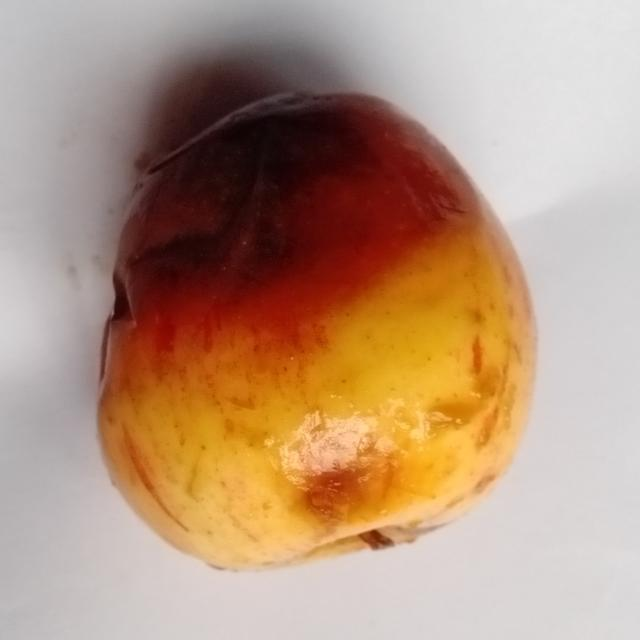apple: (100, 95, 534, 567)
